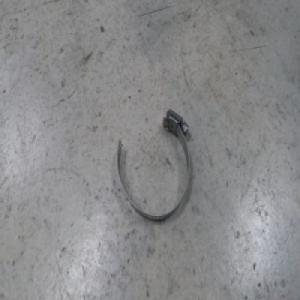AdjustableClamp: (115, 108, 191, 224)
